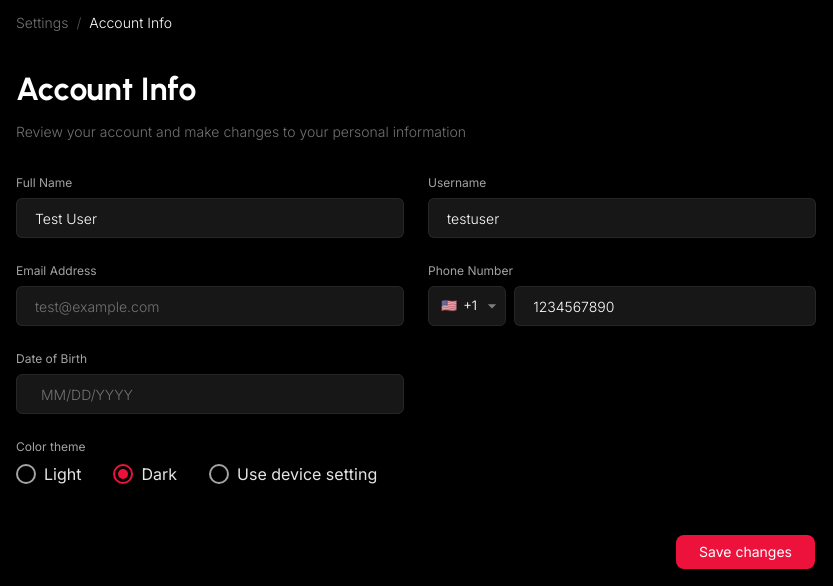
Test case: AccountSettings — Color theme section › radio selection › allows switching to Light
Step 1. Click the radio button labelled "Light" → x=26, y=474, box [16, 464, 36, 484]
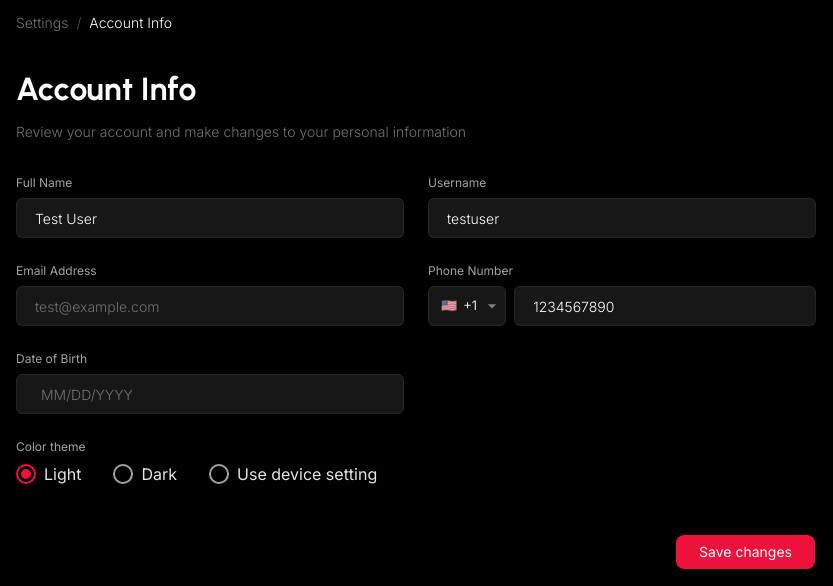
Now the radio button labelled "Light" is checked, box [16, 464, 36, 484]
Now the radio button labelled "Dark" is not checked, box [113, 464, 133, 484]
